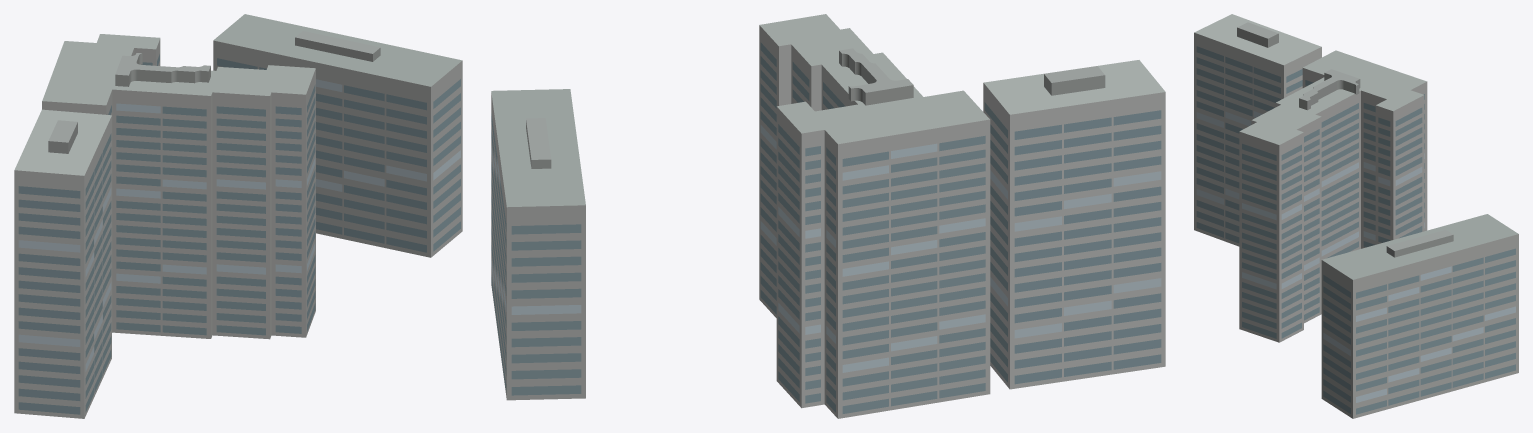
Rendered from apt-a13184502.glb.
3 renders of one model, left to right at view 1: azimuth 30°, elevation 25°; view 2: azimuth 150°, elevation 25°; view 3: azimuth 270°, elevation 25°, orthographic. The views are drawn at different scales.
Parts seen in each view (by area): view 1: apt-a13184502; view 2: apt-a13184502; view 3: apt-a13184502.
Boxes of the visible parts, x1=… form: apt-a13184502: x1=14, y1=14, x2=462, y2=418; apt-a13184502: x1=491, y1=14, x2=1165, y2=418; apt-a13184502: x1=1194, y1=14, x2=1518, y2=418.
Size of the model in its own units: 116 by 54 by 76.83.
